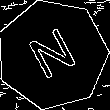N_SE: (23, 23, 82, 86)
